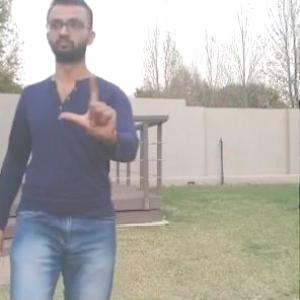land_hand: (62, 72, 127, 149)
